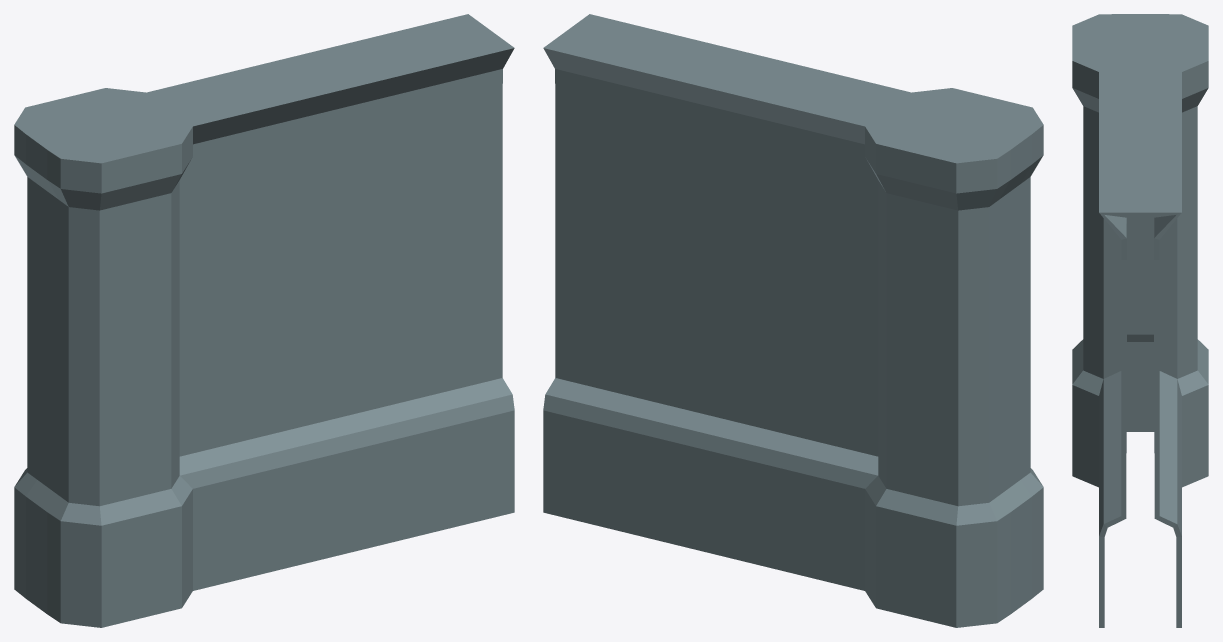
File: Dungeon_Wall_C.fbx
3 views of the same model, side by side, from view 1: azimuth 30°, elevation 25°; view 2: azimuth 150°, elevation 25°; view 3: azimuth 270°, elevation 25° (orthographic). The views are drawn at different scales.
Visible parts, largest first — view 1: Wall.3; view 2: Wall.3; view 3: Wall.3.
Boxes of the visible parts, <box> form: Wall.3: <box>14,14,514,627</box>; Wall.3: <box>543,14,1043,627</box>; Wall.3: <box>1072,14,1208,627</box>.
Size of the model in its own units: 4.11 by 4 by 1.19.
